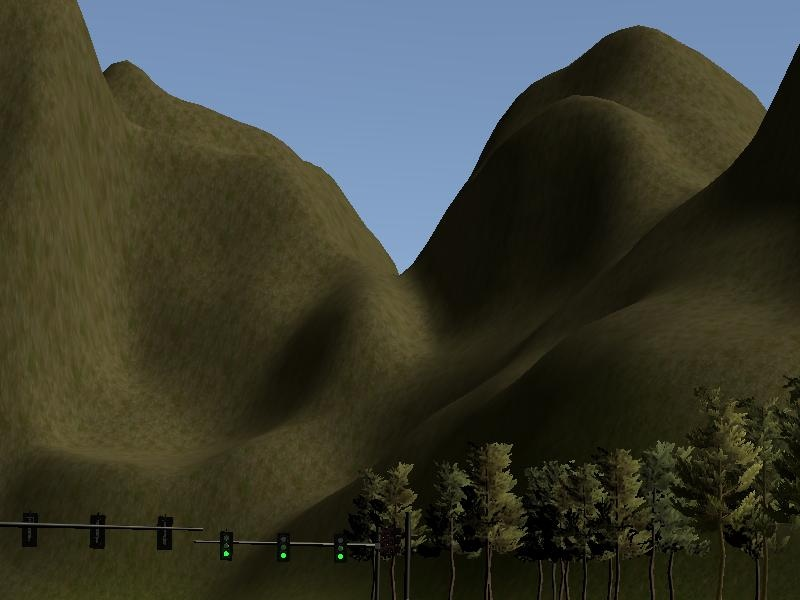green: (332, 533, 348, 566), (275, 532, 291, 564), (217, 530, 234, 560)
